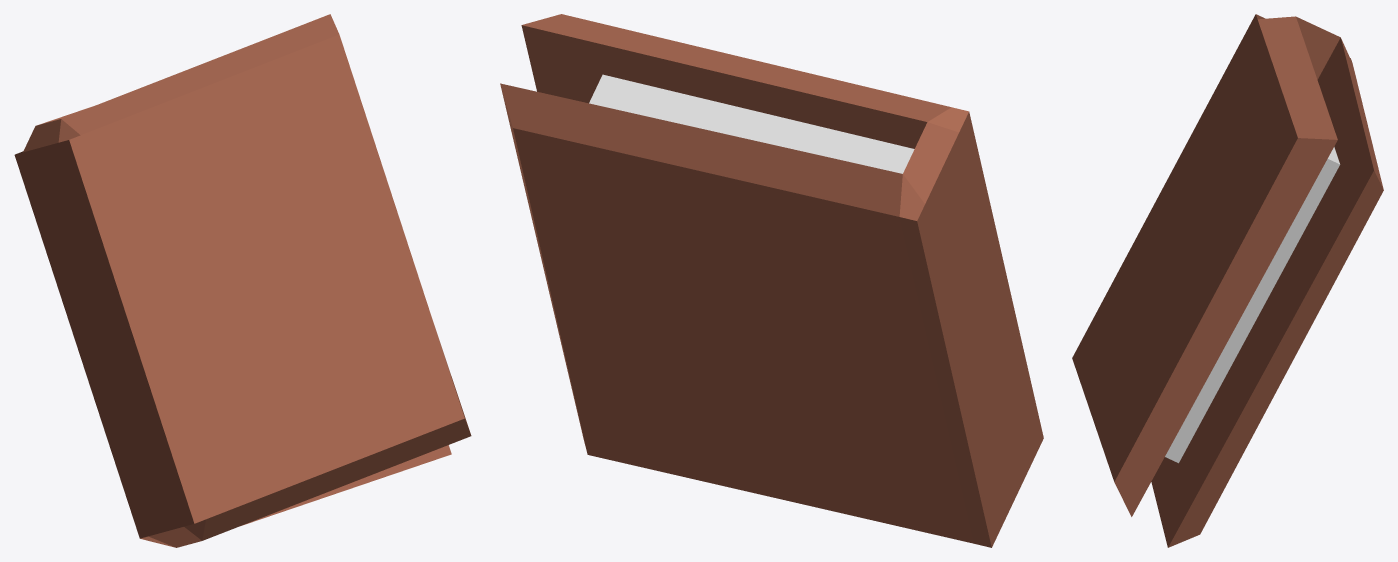
File: MadeByJawns_ItchIO_GameItems_v1_0_1_Book.fbx
3 views of the same model, side by side, from view 1: azimuth 30°, elevation 25°; view 2: azimuth 150°, elevation 25°; view 3: azimuth 270°, elevation 25° (orthographic). The views are drawn at different scales.
Visible parts, largest first — view 1: Book; view 2: Book, InsideBook; view 3: Book, InsideBook.
Part boxes in pixels (x1,y1,x2,y2): Book: [14, 14, 471, 547]; Book: [500, 14, 1043, 547]; InsideBook: [589, 74, 914, 173]; Book: [1072, 14, 1383, 547]; InsideBook: [1165, 147, 1340, 463].
Size of the model in its own units: 449 by 491 by 347.
